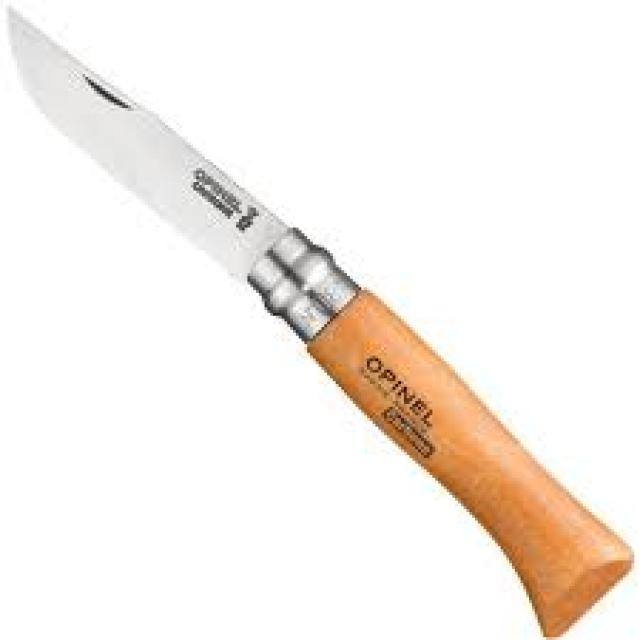knife: (7, 6, 634, 634)
